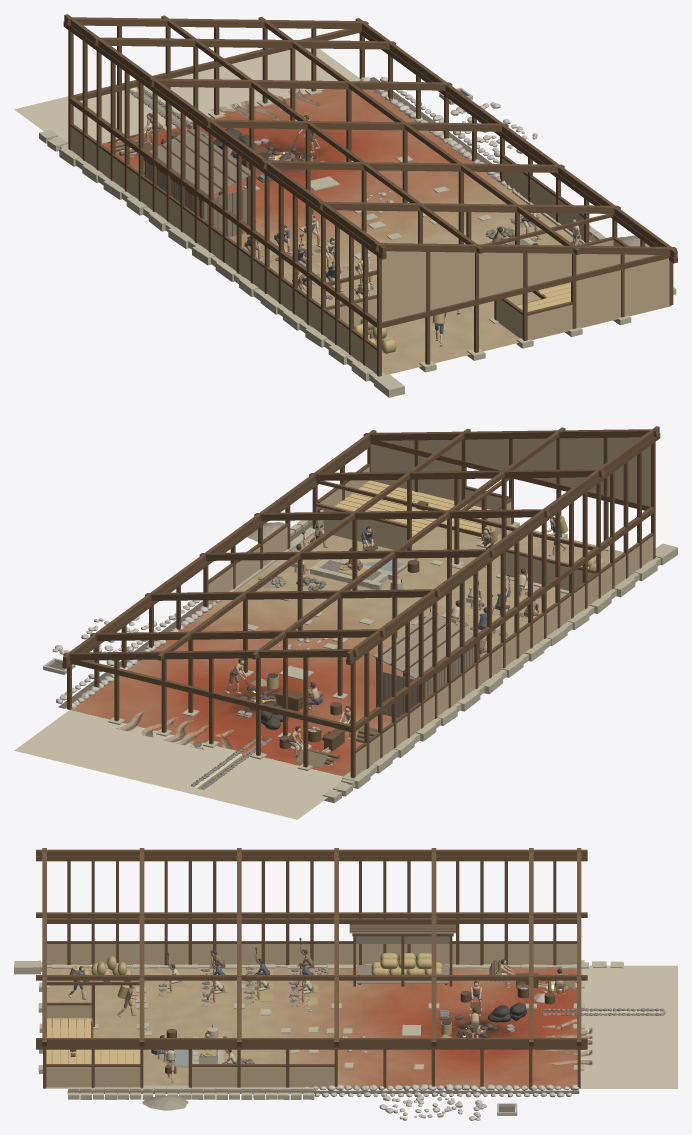
File: shimogawara-open-mini.glb
3 renders of one model, top to bottom at view 1: azimuth 30°, elevation 25°; view 2: azimuth 150°, elevation 25°; view 3: azimuth 270°, elevation 25°, orthographic. The views are drawn at different scales.
Parts seen in each view (by area): view 1: Doma_Floor, Post (×20), North_Gable, SouthLot_Ground, East_Koshikabe, North_Wall_West2ken, Kobari_x5.90, Kobari_x-5.90, Beam_East_1ken, Kobari_x-1.97, Kobari_x1.97, Oobari_z9.85 (+18 smaller); view 2: Doma_Floor, SouthLot_Ground, North_Gable, East_Koshikabe, Post (×6), Kobari_x5.90, Kobari_x-5.90, Beam_East_1ken, Kobari_x1.97, Kobari_x-1.97, Oobari_z-11.79, Oobari_z-1.97 (+19 smaller); view 3: Doma_Floor, SouthLot_Ground, East_Koshikabe, Kobari_x5.90, Kobari_x-5.90, Kobari_x1.97, Kobari_x-1.97, Keta_East, Beam_East_1ken, West_Koshikabe_4th-6th, Keta_West, West_Koshikabe_North2ken (+15 smaller).
Boxes of the visible parts, <box> form: Doma_Floor: <box>101,80,581,374</box>; Post (×20): <box>68,30,430,376</box>; North_Gable: <box>382,251,655,321</box>; SouthLot_Ground: <box>14,38,360,145</box>; East_Koshikabe: <box>71,127,376,374</box>; North_Wall_West2ken: <box>576,258,671,327</box>; Kobari_x5.90: <box>64,14,385,254</box>; Kobari_x-5.90: <box>355,18,677,258</box>; Beam_East_1ken: <box>69,97,377,327</box>; Kobari_x-1.97: <box>258,16,580,254</box>; Kobari_x1.97: <box>161,15,483,253</box>; Oobari_z9.85: <box>373,243,676,254</box>; Doma_Floor: <box>70,526,623,776</box>; SouthLot_Ground: <box>14,710,346,819</box>; North_Gable: <box>383,437,650,505</box>; East_Koshikabe: <box>355,536,653,775</box>; Post (×6): <box>303,512,560,778</box>; Kobari_x5.90: <box>346,426,659,659</box>; Kobari_x-5.90: <box>63,430,376,663</box>; Beam_East_1ken: <box>354,507,655,731</box>; Kobari_x1.97: <box>252,427,565,659</box>; Kobari_x-1.97: <box>157,428,470,660</box>; Oobari_z-11.79: <box>63,649,359,660</box>; Oobari_z-1.97: <box>199,549,495,560</box>; Doma_Floor: <box>45,965,577,1088</box>; SouthLot_Ground: <box>579,965,677,1088</box>; East_Koshikabe: <box>47,944,576,964</box>; Kobari_x5.90: <box>36,849,587,856</box>; Kobari_x-5.90: <box>36,1038,587,1044</box>; Kobari_x1.97: <box>36,912,587,917</box>; Kobari_x-1.97: <box>36,975,587,980</box>; Keta_East: <box>36,856,587,861</box>; Beam_East_1ken: <box>47,918,576,923</box>; West_Koshikabe_4th-6th: <box>192,1067,334,1087</box>; Keta_West: <box>36,1045,587,1049</box>; West_Koshikabe_North2ken: <box>46,1067,140,1087</box>.
Bounding box in the file's own units: 0.5098 × 0.187 × 0.8959.
Materials: 43 (1 with a texture image).
